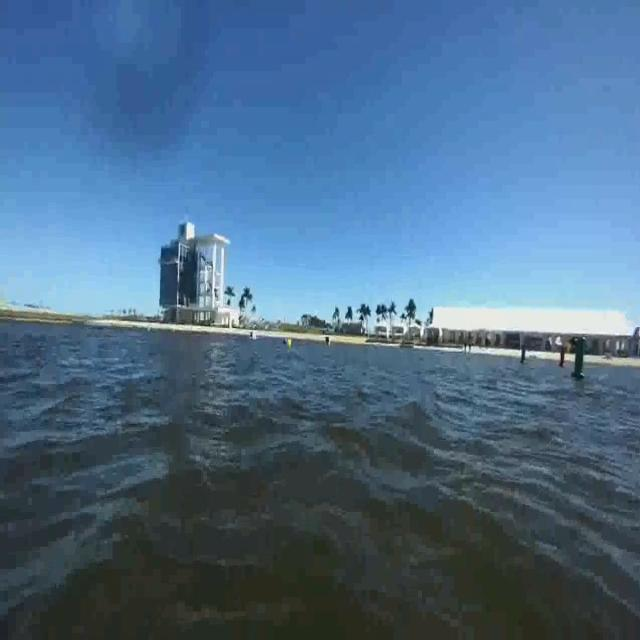green-column-buoy: (570, 336, 587, 381)
yellow-buoy: (284, 334, 293, 349)
